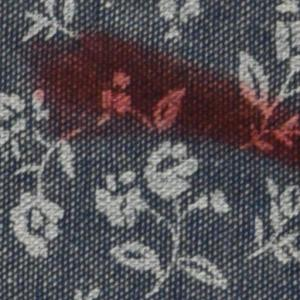Stain: (21, 24, 300, 178)
